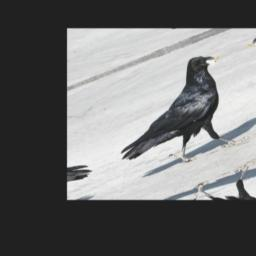Crow: (89, 49, 256, 185)
